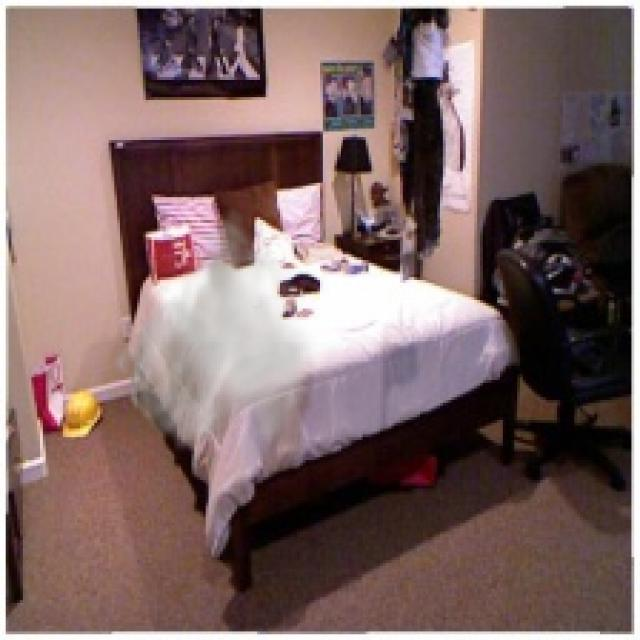smoke: (111, 200, 320, 474)
